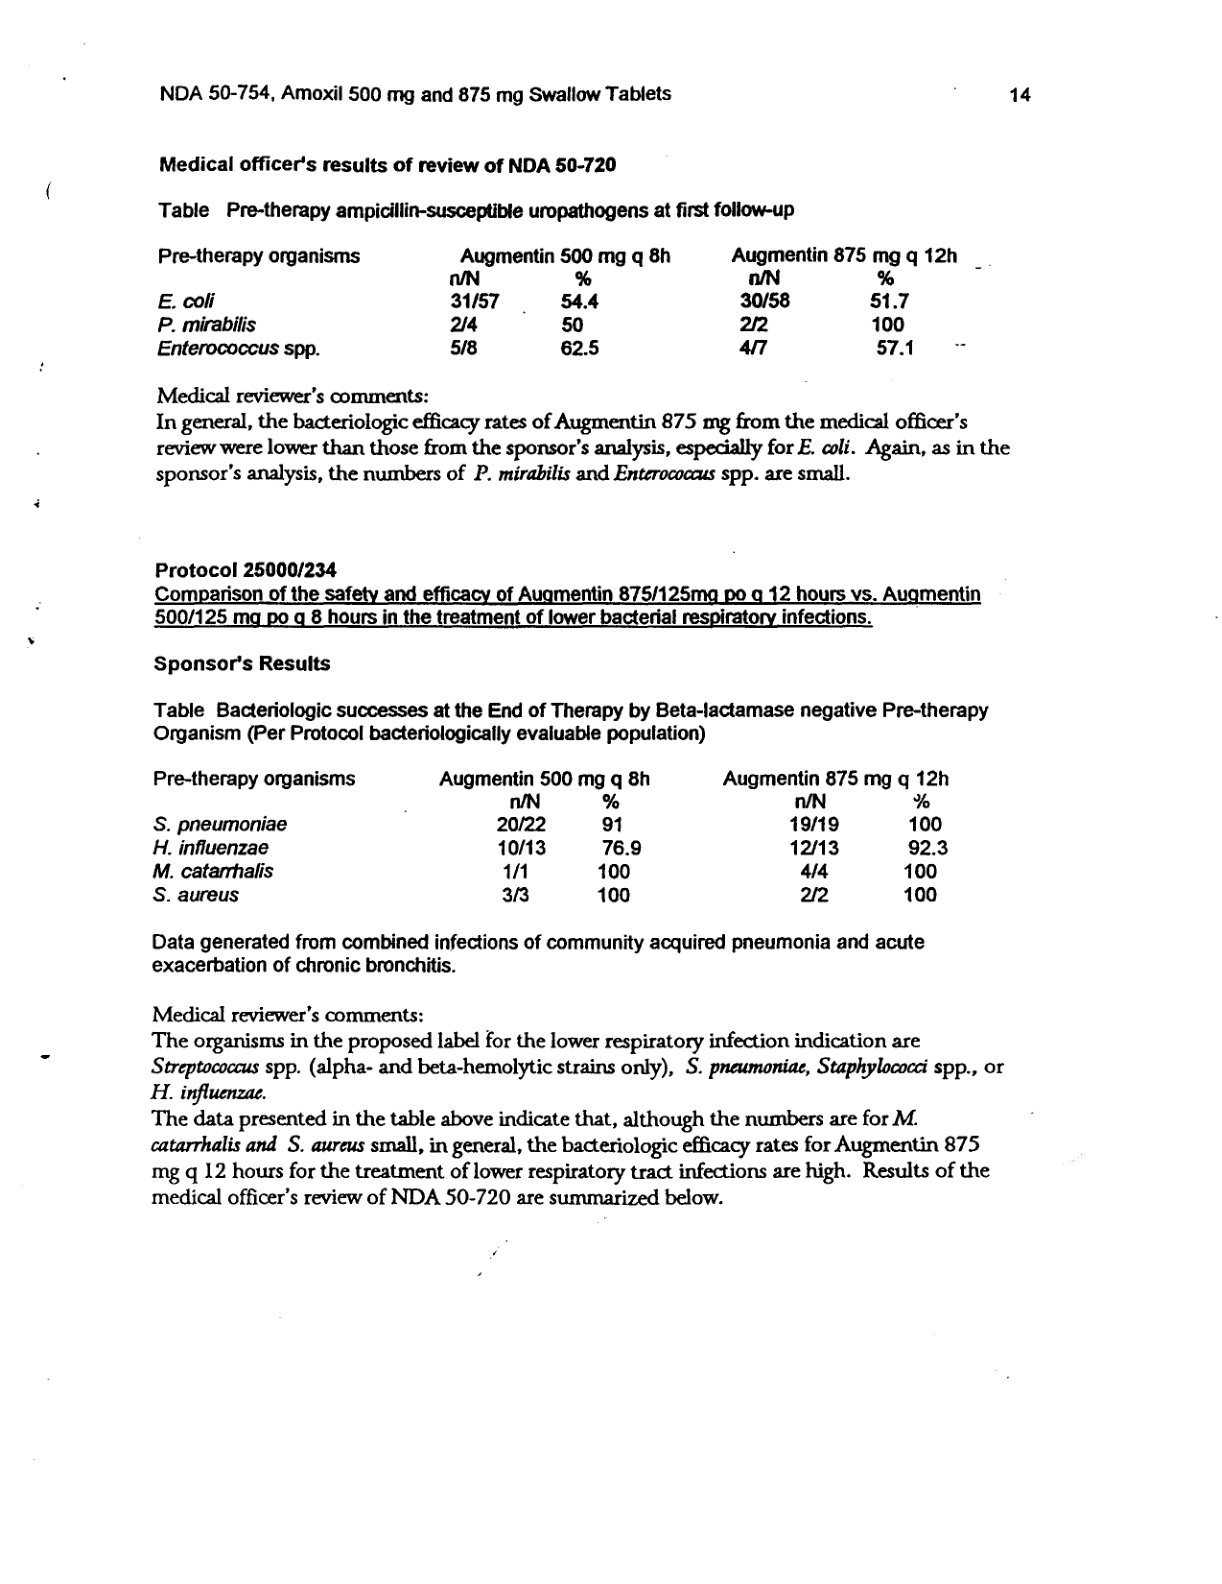nolines: (150, 768, 950, 901), (153, 245, 958, 357)
